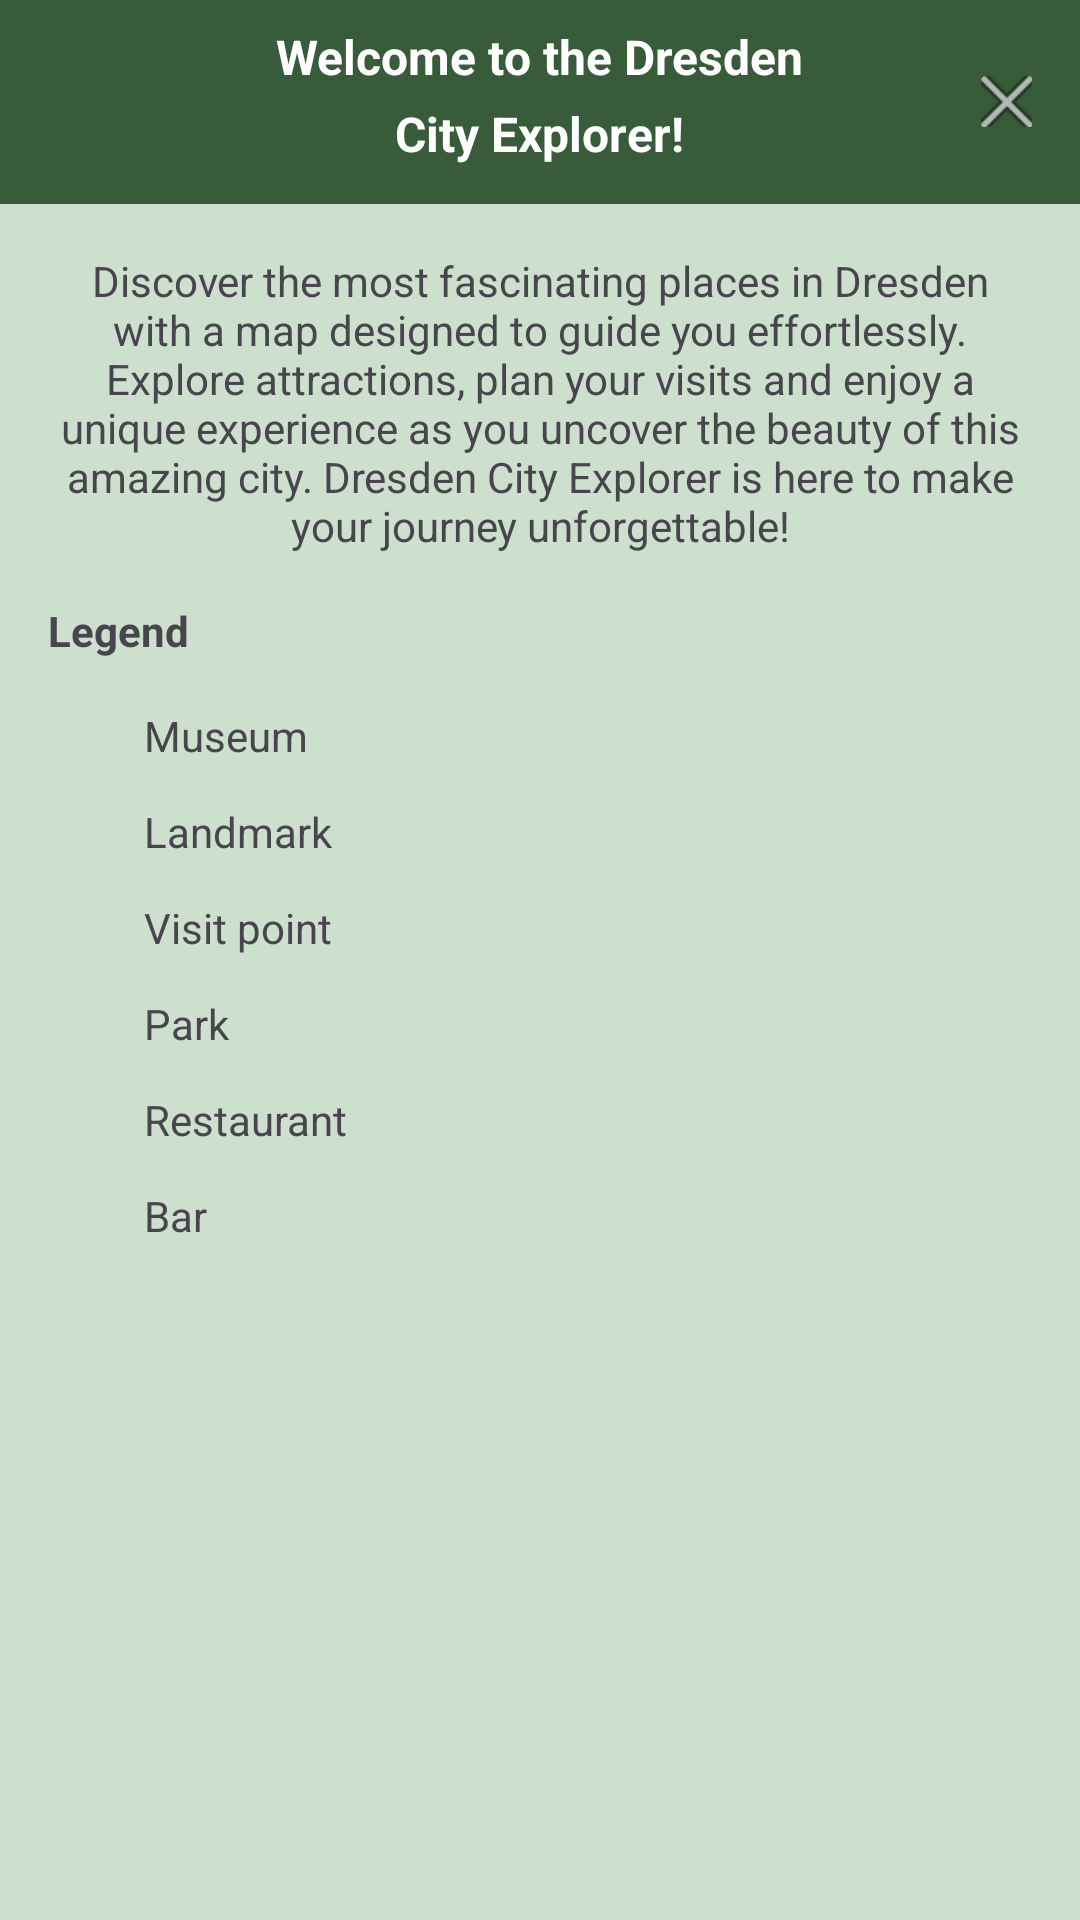

Where icons sit on this 1080 x 1920 app screen, as detection(x1, y1, x2, y2):
Close Button: detection(981, 76, 1032, 127)
